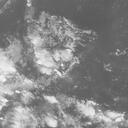cyclone: (1, 47, 37, 114)
